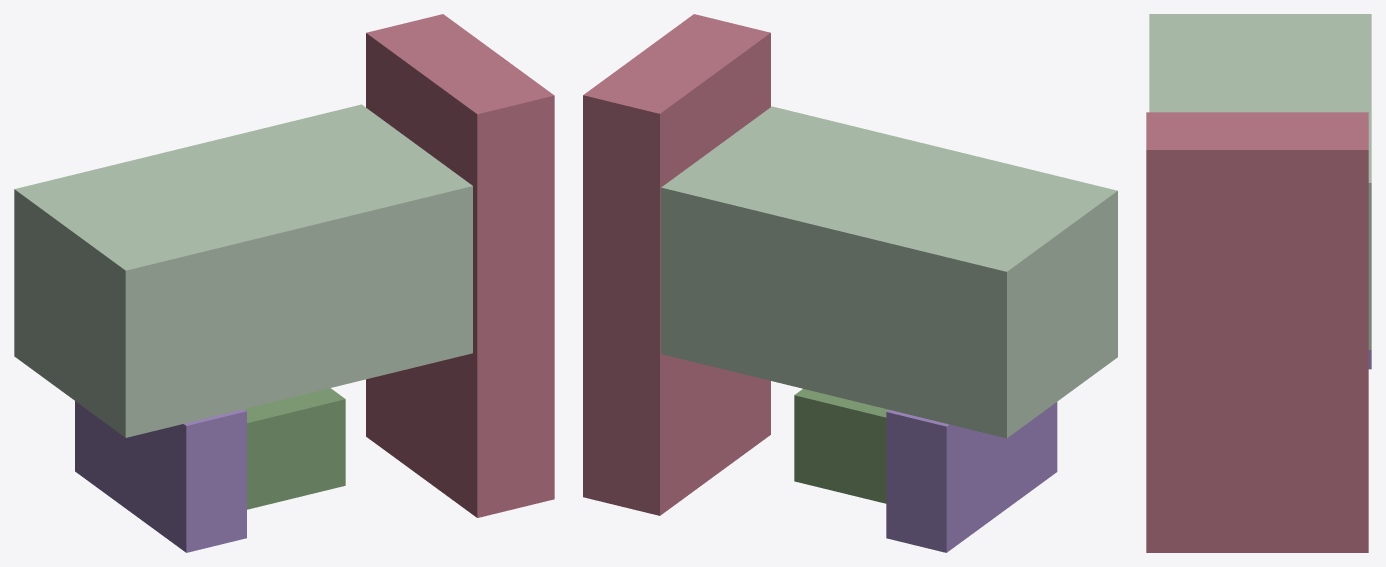
3 renders of one model, left to right at view 1: azimuth 30°, elevation 25°; view 2: azimuth 150°, elevation 25°; view 3: azimuth 270°, elevation 25°, orthographic.
Parts seen in each view (by area): view 1: world; view 2: world; view 3: world.
Part boxes in pixels (x1,y1,x2,y2): world: [14, 14, 554, 552]; world: [583, 14, 1117, 552]; world: [1146, 14, 1371, 552].
Size of the model in its own units: 7.75 by 7 by 3.55.
